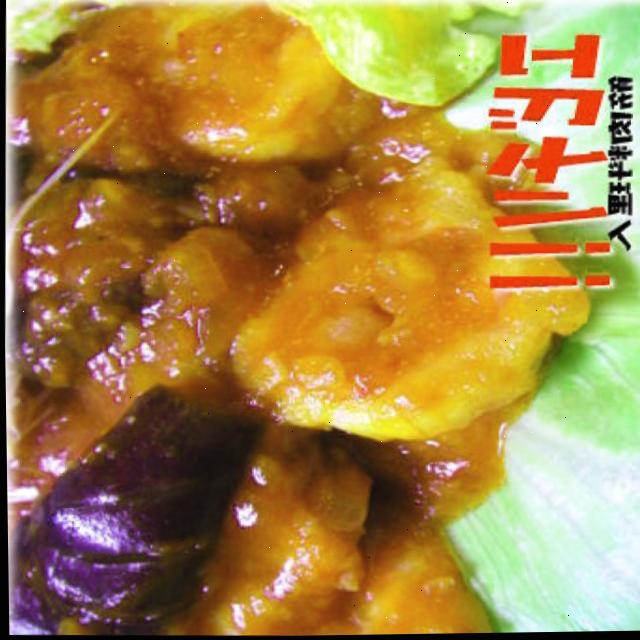熟制海鲜: (12, 1, 483, 631)
